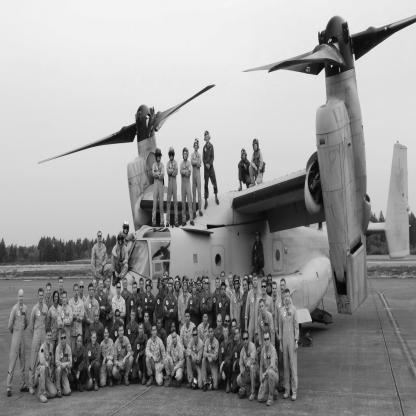V22: (39, 15, 416, 346)
